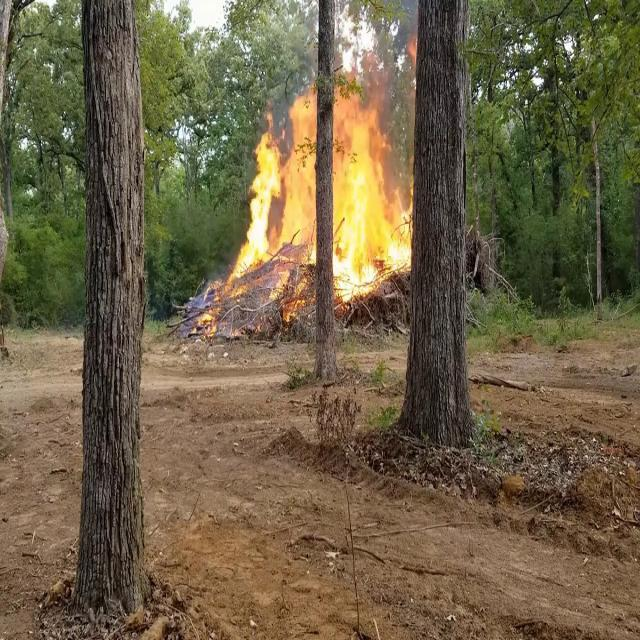Fire: (236, 72, 412, 297), (192, 267, 236, 329)
